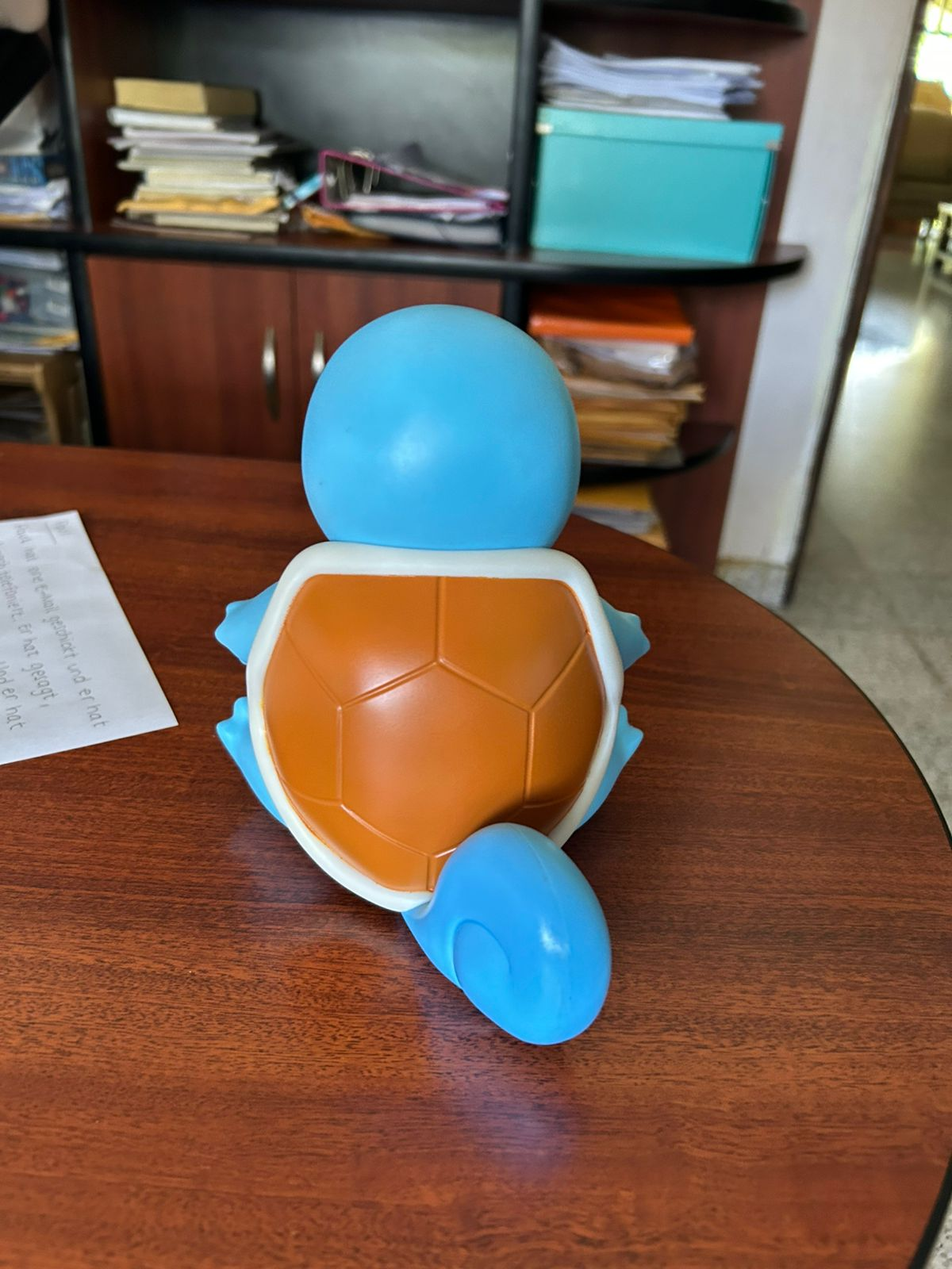Squirtle: (217, 305, 647, 1042)
